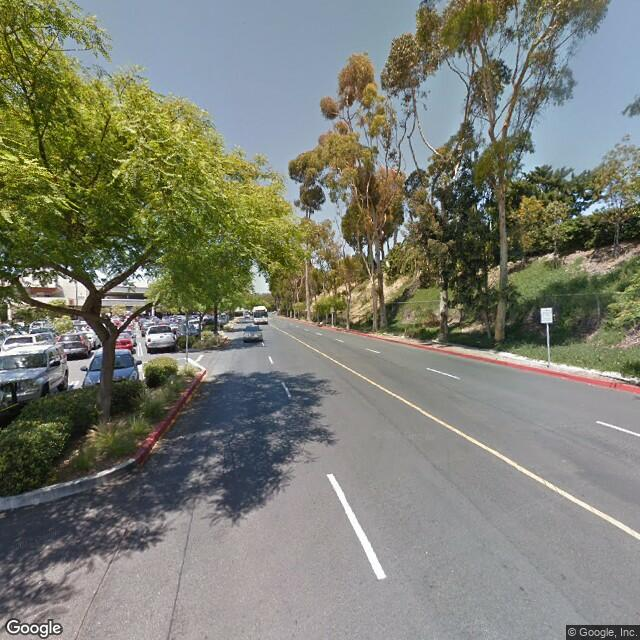litter: (617, 348, 626, 354), (615, 361, 623, 366), (399, 335, 409, 339)
